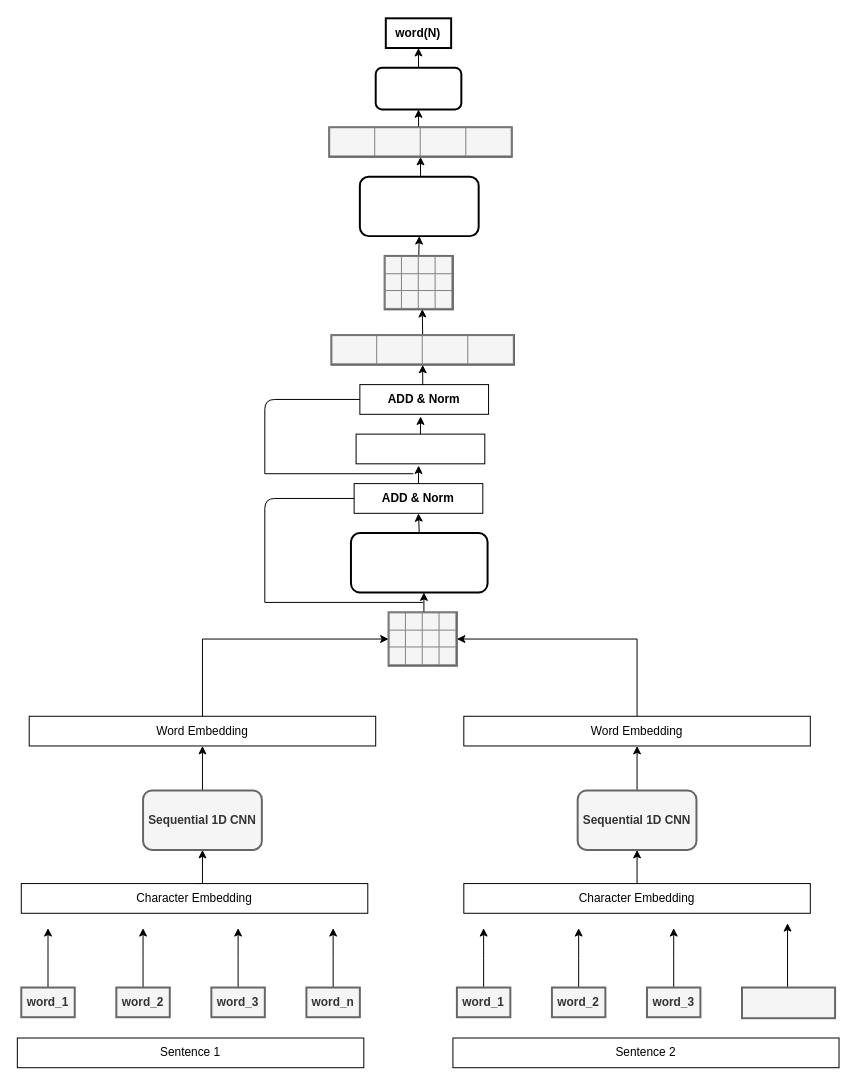
Image size: 856x1085. Some labels were removed from this diagram. The shapes that lost their labels are listed below. From the top down, each one's centre as x and y in pixels, then its label:
At [418,88]: "Dense and Softmax layer".
At [418,206]: "Coordinating Sequential 1D CNN Sub-Model".
At [420,448]: "Feed Forward".
At [418,562]: "Multi-headed Self-Attention".
At [788,1002]: "partial word_n".
